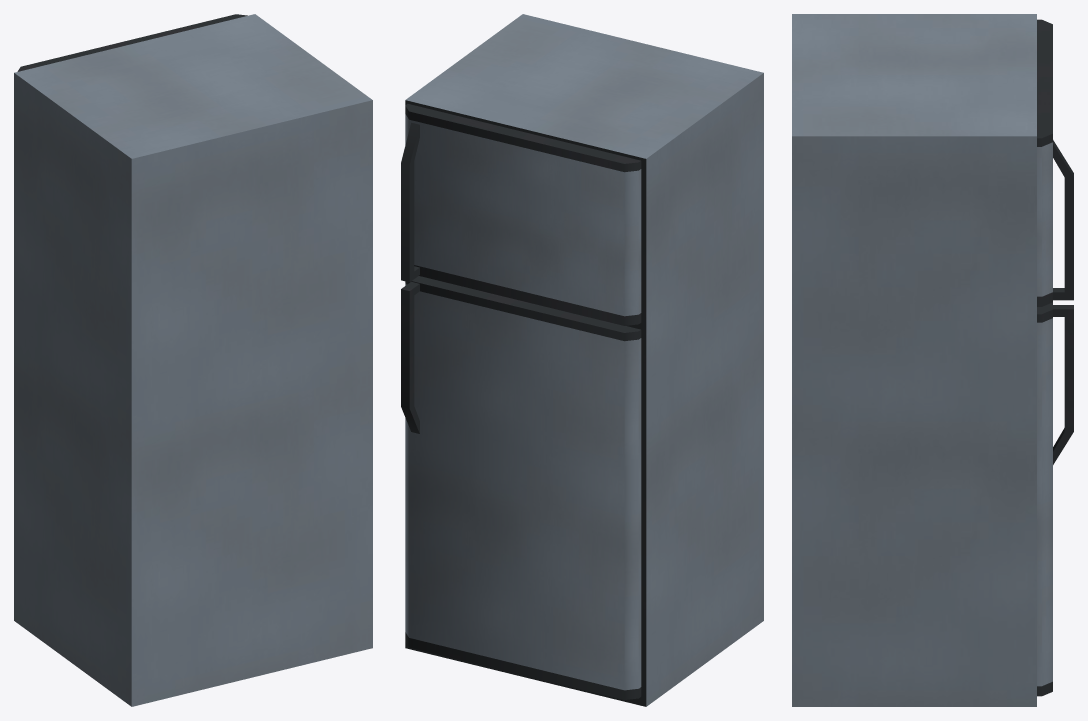
File: fridge.fbx
3 views of the same model, side by side, from view 1: azimuth 30°, elevation 25°; view 2: azimuth 150°, elevation 25°; view 3: azimuth 270°, elevation 25° (orthographic). The views are drawn at different scales.
Parts seen in each view (by area): view 1: Refrigerator, Refrigerator_door; view 2: Refrigerator, Refrigerator_door; view 3: Refrigerator, Refrigerator_door.
Boxes of the visible parts, x1=… form: Refrigerator: x1=14, y1=14, x2=372, y2=706; Refrigerator_door: x1=17, y1=14, x2=247, y2=71; Refrigerator: x1=401, y1=14, x2=763, y2=706; Refrigerator_door: x1=401, y1=103, x2=641, y2=325; Refrigerator: x1=792, y1=14, x2=1073, y2=706; Refrigerator_door: x1=1037, y1=19, x2=1073, y2=306.
Size of the model in its own units: 96.12 by 209 by 93.52.
4 materials, 3 textured.
